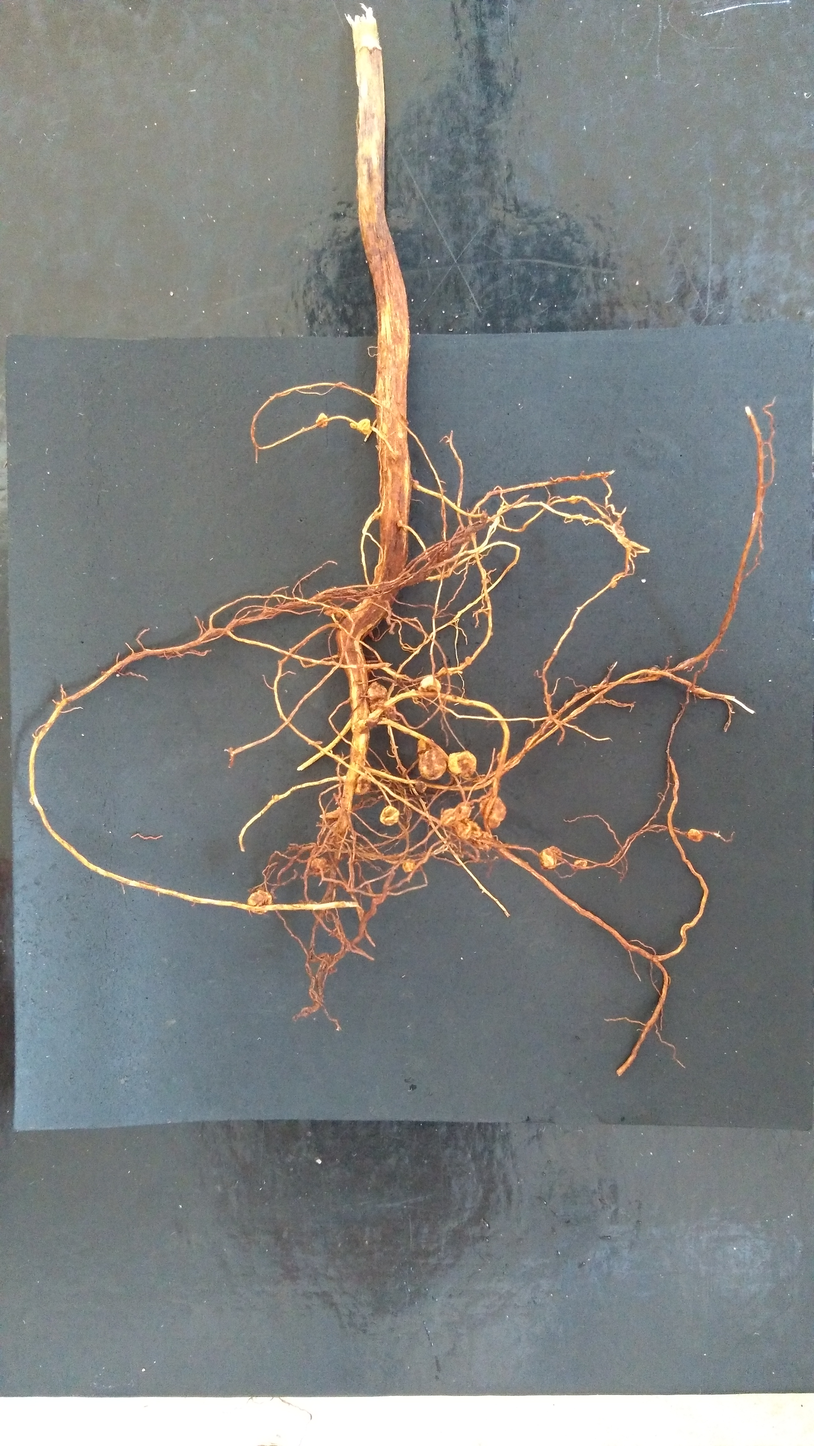nodule: (416, 736, 447, 781), (479, 795, 509, 829), (447, 749, 478, 779), (245, 887, 274, 915), (365, 681, 389, 713), (539, 845, 563, 871), (416, 673, 443, 695), (377, 804, 400, 828), (353, 774, 373, 797), (453, 800, 473, 822), (454, 819, 472, 841), (438, 806, 456, 826), (476, 830, 494, 850), (309, 856, 327, 873), (686, 828, 705, 844), (356, 417, 371, 436), (468, 819, 483, 838), (384, 705, 399, 723), (401, 857, 417, 873), (314, 411, 328, 428), (414, 780, 428, 794), (572, 858, 588, 869), (464, 656, 473, 666), (348, 421, 357, 430), (570, 495, 578, 504)
